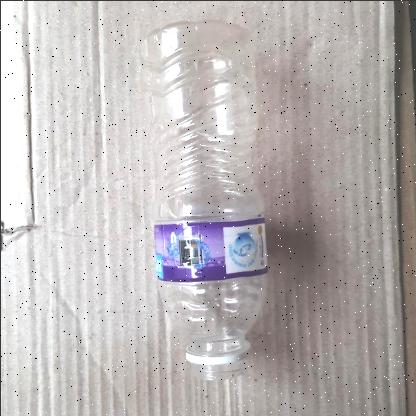Plastic Bottle: (140, 21, 268, 379)
